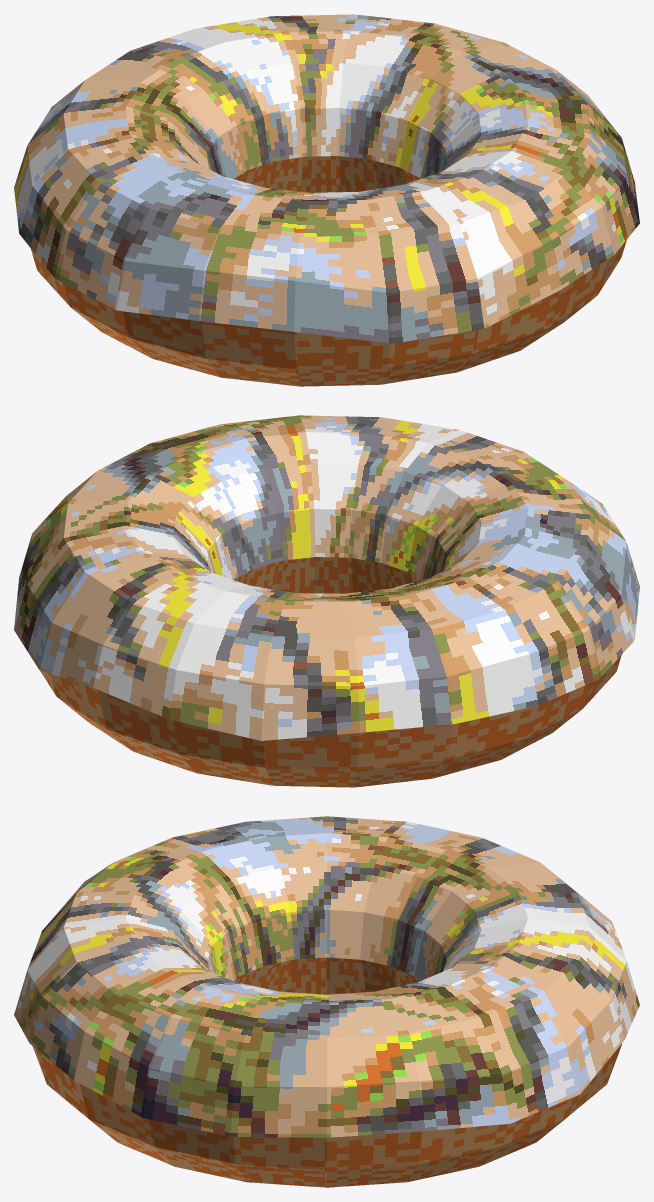
Rendered from donut_5.glb.
3 views of the same model, one above another, from view 1: azimuth 30°, elevation 25°; view 2: azimuth 150°, elevation 25°; view 3: azimuth 270°, elevation 25° (orthographic).
Visible parts, largest first — view 1: doughnut_ps_baked; view 2: doughnut_ps_baked; view 3: doughnut_ps_baked.
Part boxes in pixels (bbox=[...]): doughnut_ps_baked: bbox=[14, 14, 639, 386]; doughnut_ps_baked: bbox=[14, 415, 639, 787]; doughnut_ps_baked: bbox=[14, 816, 639, 1187].
Size of the model in its own units: 1.28 by 0.3887 by 1.28.
1 material, 1 textured.
